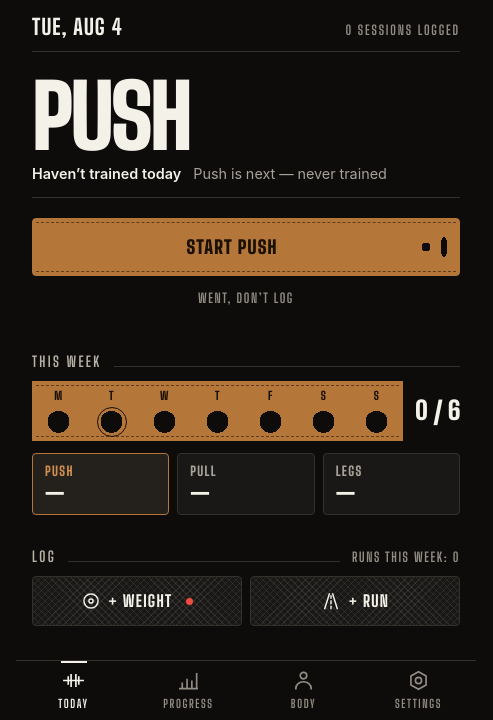
Test case: logging a workout › dismisses the rest timer on Skip
Click the button "Start Push" at (246, 247), box [32, 218, 460, 276]
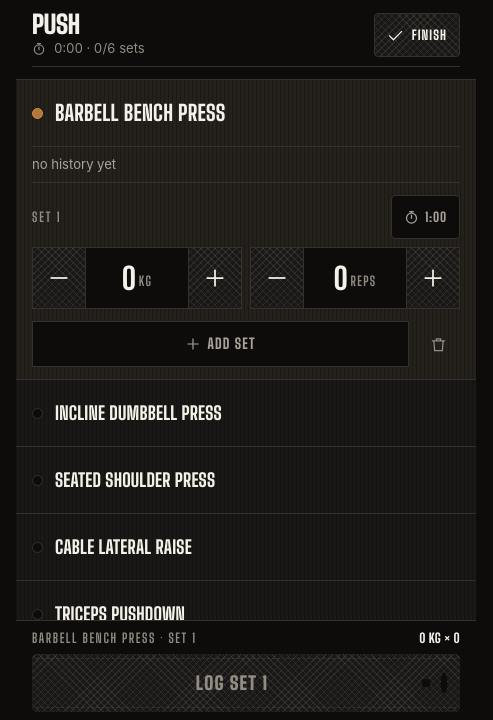
expect the text "Barbell Bench Press" is shown: met, box [55, 100, 226, 126]
Click the button with aria-label "Barbell Bench Press set 1 reps" at (355, 278), box [304, 247, 406, 309]
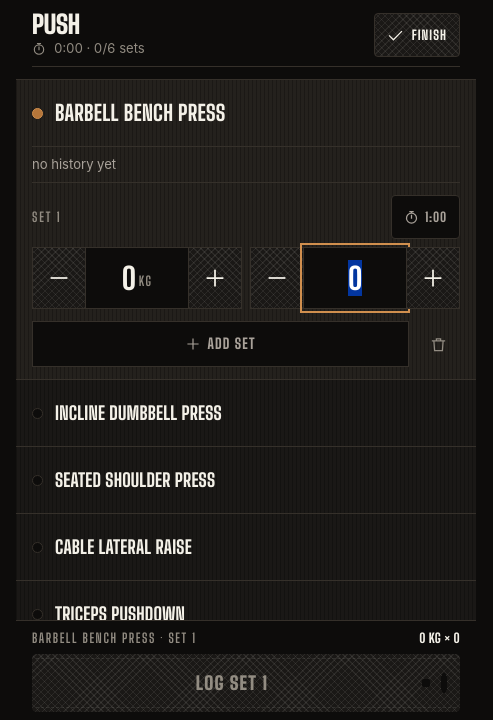
Type "8" into the field named "Barbell Bench Press set 1 reps" at (355, 278), box [304, 247, 406, 309]
Then press Enter
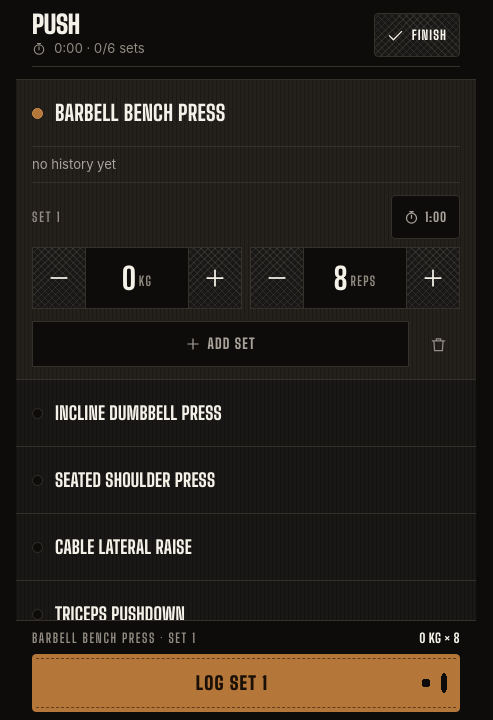
Click the button with aria-label "mark Barbell Bench Press set 1 done" at (246, 683), box [32, 654, 460, 712]
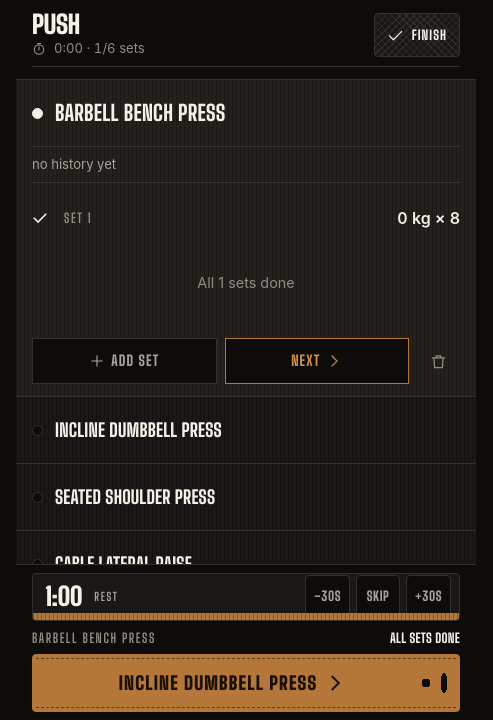
Click the button "Skip" at (378, 597), box [356, 575, 400, 619]
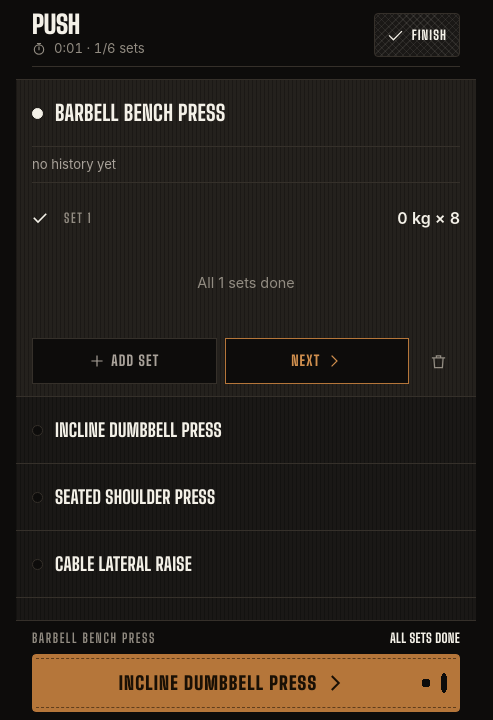
expect the button "+30s" is gone: met
